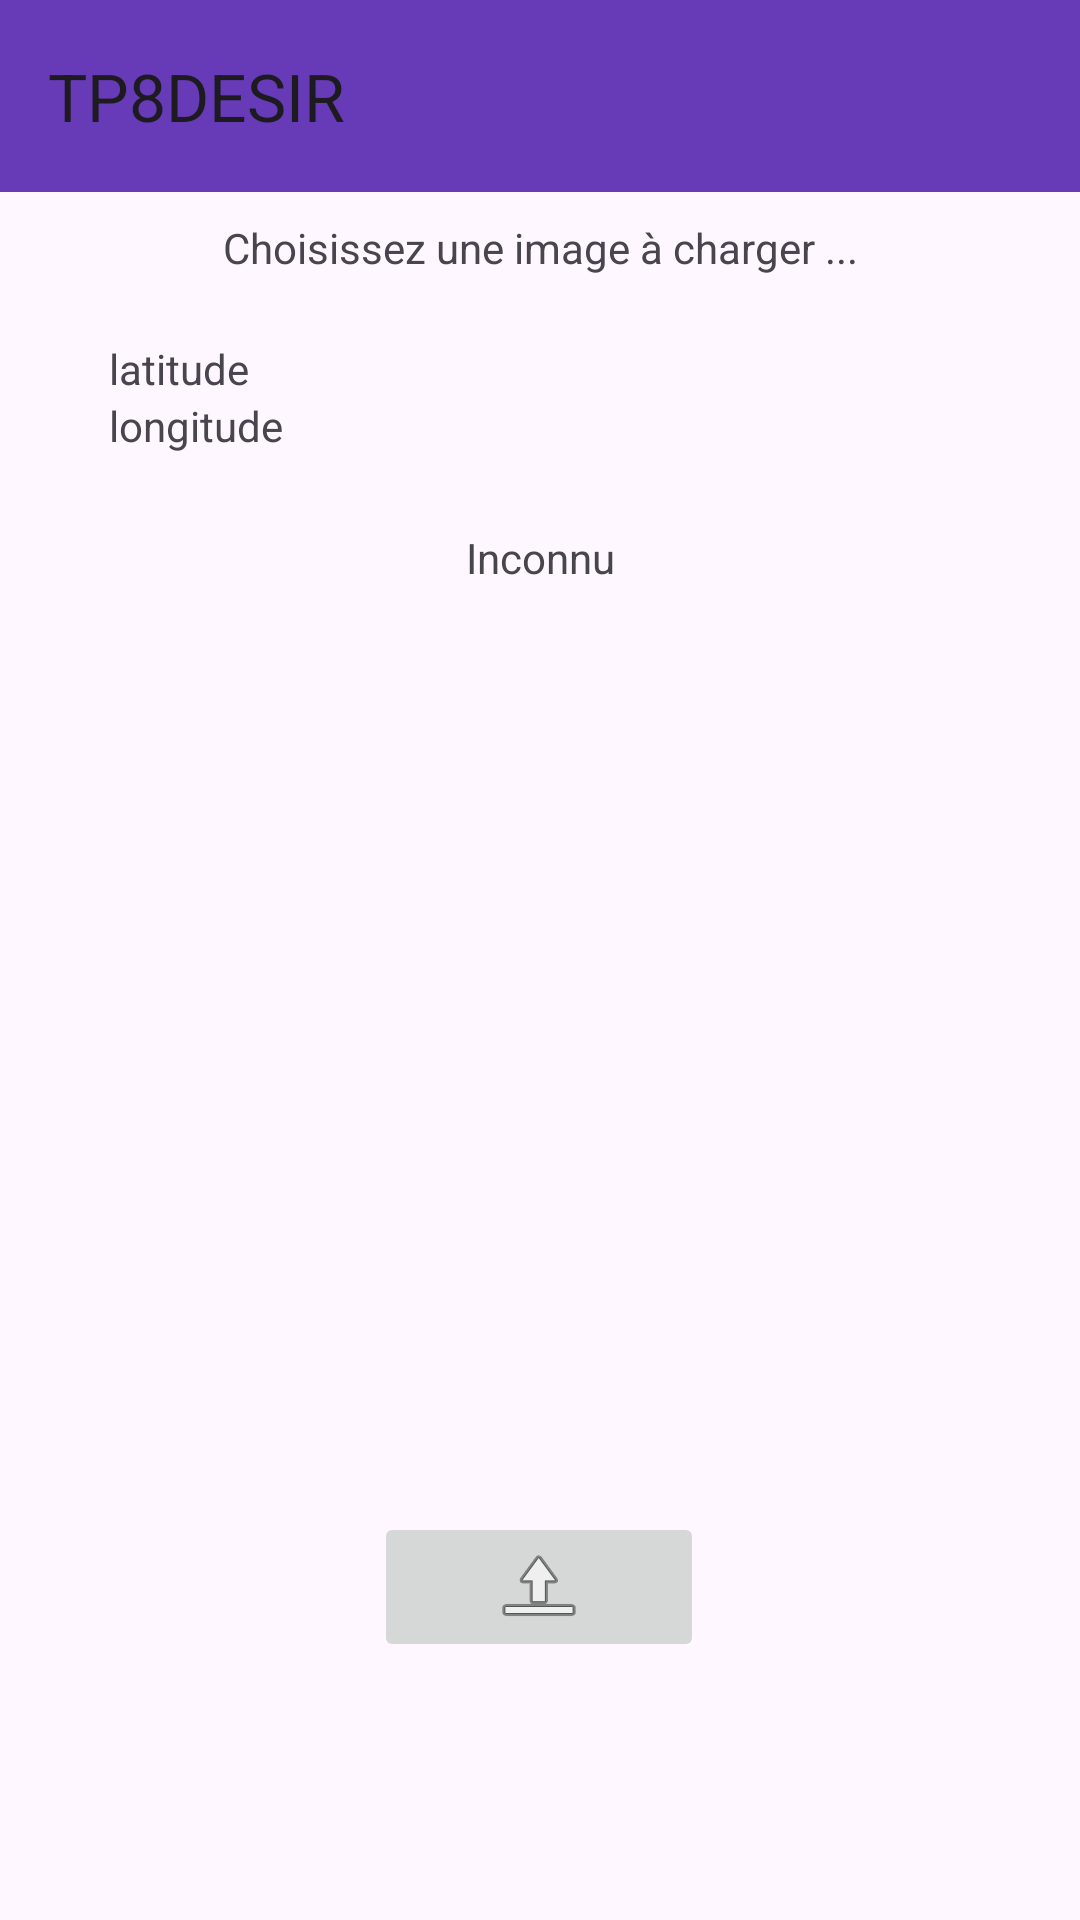

Icons on this 1080 x 1920 Android screen, each with the point to tap as point (x, y):
upload: point (539, 1587)
